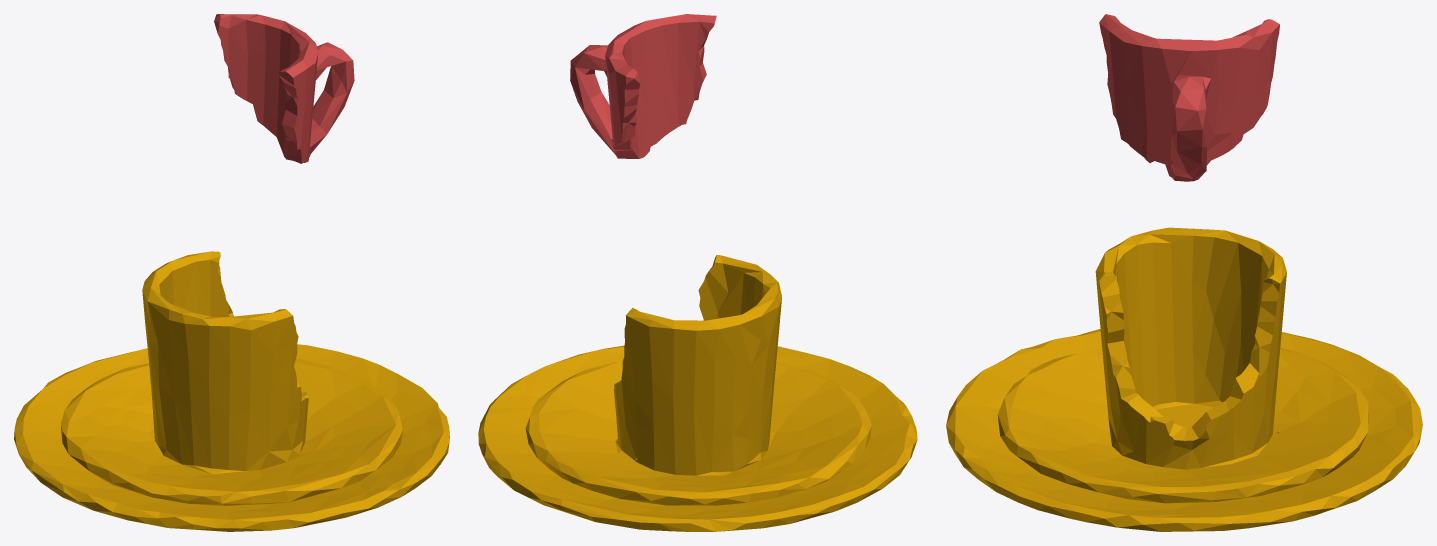
Rendered from fractured_72_2pcs_transformed.glb.
The picture shows the model from 3 angles, left to right: view 1: azimuth 30°, elevation 25°; view 2: azimuth 150°, elevation 25°; view 3: azimuth 270°, elevation 25°; orthographic projection. The views are drawn at different scales.
Visible parts, largest first — view 1: piece_0.obj, piece_1.obj; view 2: piece_0.obj, piece_1.obj; view 3: piece_0.obj, piece_1.obj.
Boxes of the visible parts, x1=… form: piece_0.obj: x1=14, y1=251, x2=449, y2=531; piece_1.obj: x1=214, y1=14, x2=354, y2=163; piece_0.obj: x1=478, y1=255, x2=917, y2=531; piece_1.obj: x1=570, y1=14, x2=716, y2=158; piece_0.obj: x1=946, y1=227, x2=1422, y2=531; piece_1.obj: x1=1099, y1=14, x2=1279, y2=181.
Size of the model in its own units: 0.9934 by 1.05 by 1.
